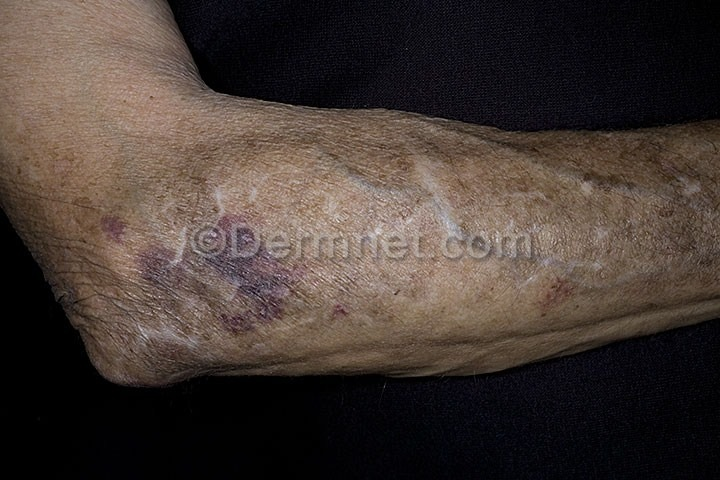Melasma: (13, 139, 720, 220), (60, 256, 318, 382), (520, 265, 638, 322), (323, 275, 385, 352)
